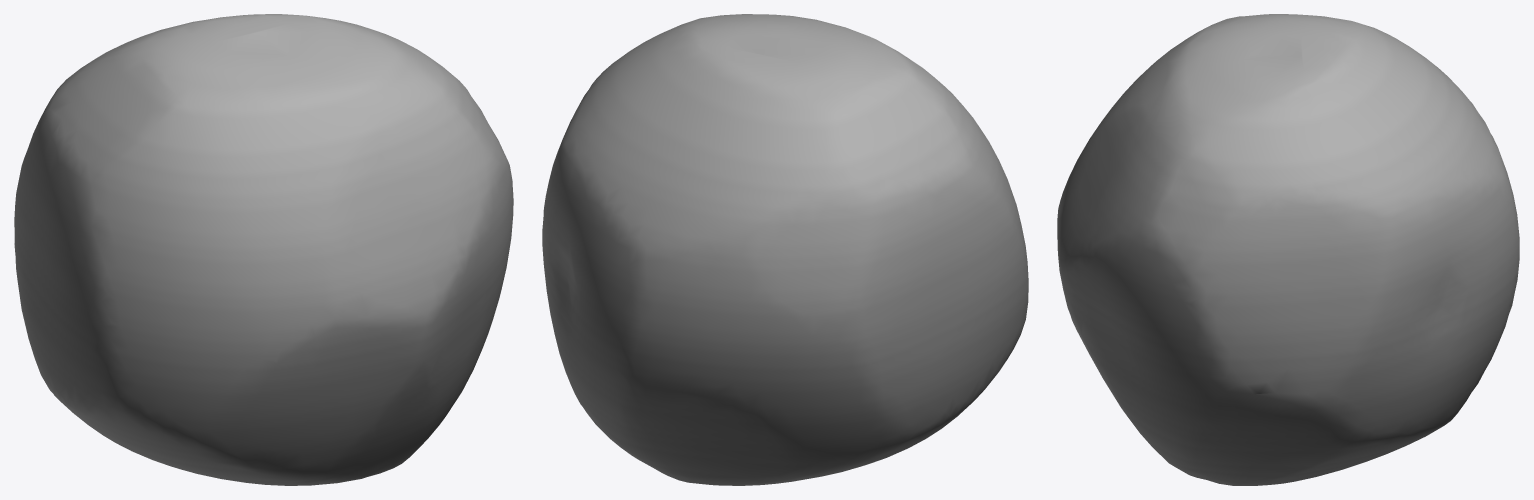
The model's file is Rock-3.fbx.
3 views of the same model, side by side, from view 1: azimuth 30°, elevation 25°; view 2: azimuth 150°, elevation 25°; view 3: azimuth 270°, elevation 25° (orthographic). The views are drawn at different scales.
Visible parts, largest first — view 1: Rock-3; view 2: Rock-3; view 3: Rock-3.
Part boxes in pixels (<box>): Rock-3: <box>14,14,513,485</box>; Rock-3: <box>542,14,1028,485</box>; Rock-3: <box>1057,14,1519,485</box>.
Size of the model in its own units: 172 by 166 by 173.
